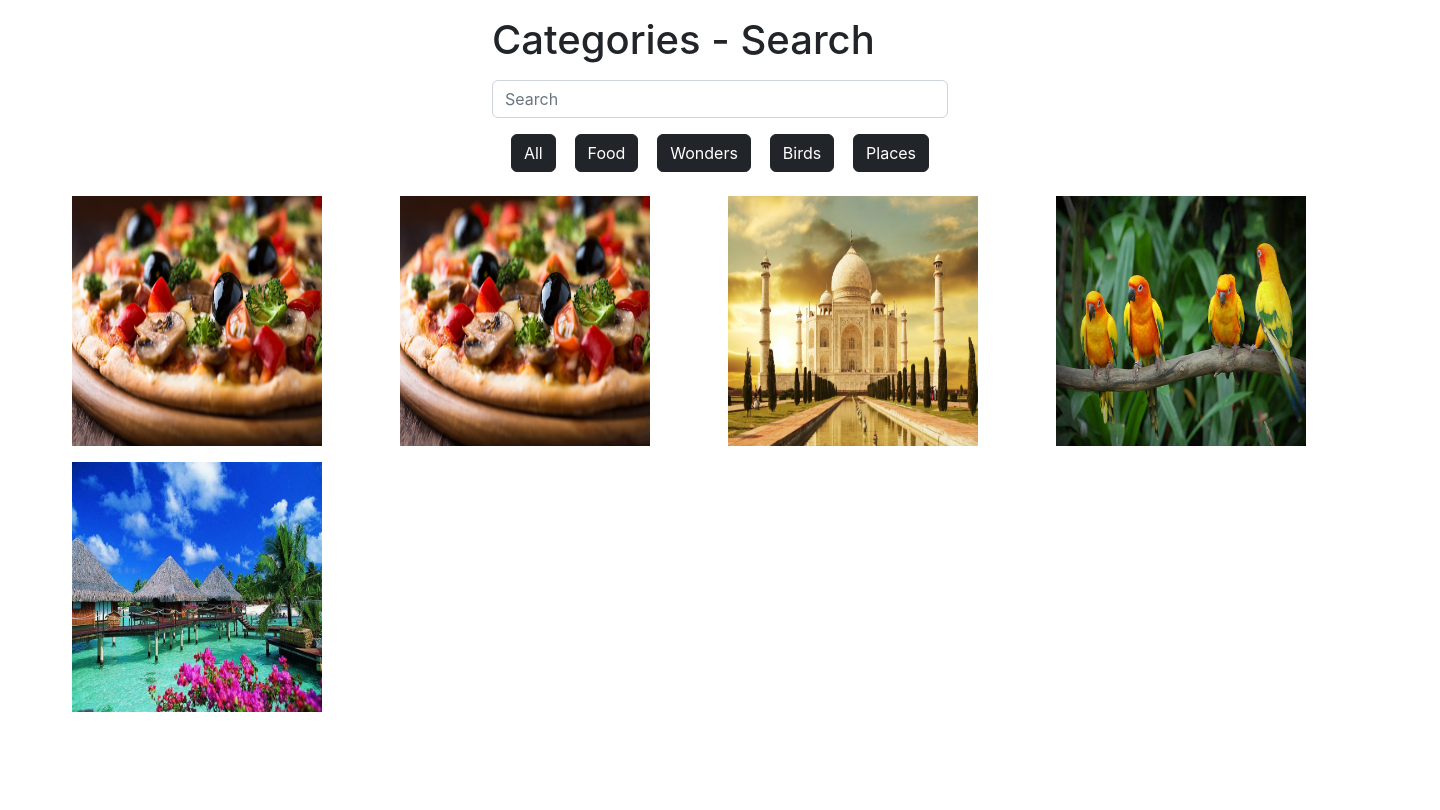
Test: Search-Box › should update the search results state and display the results in the UI when new results are returned
Type "food" into the search field with test id "search-input" at (720, 99), box [492,80,948,118]
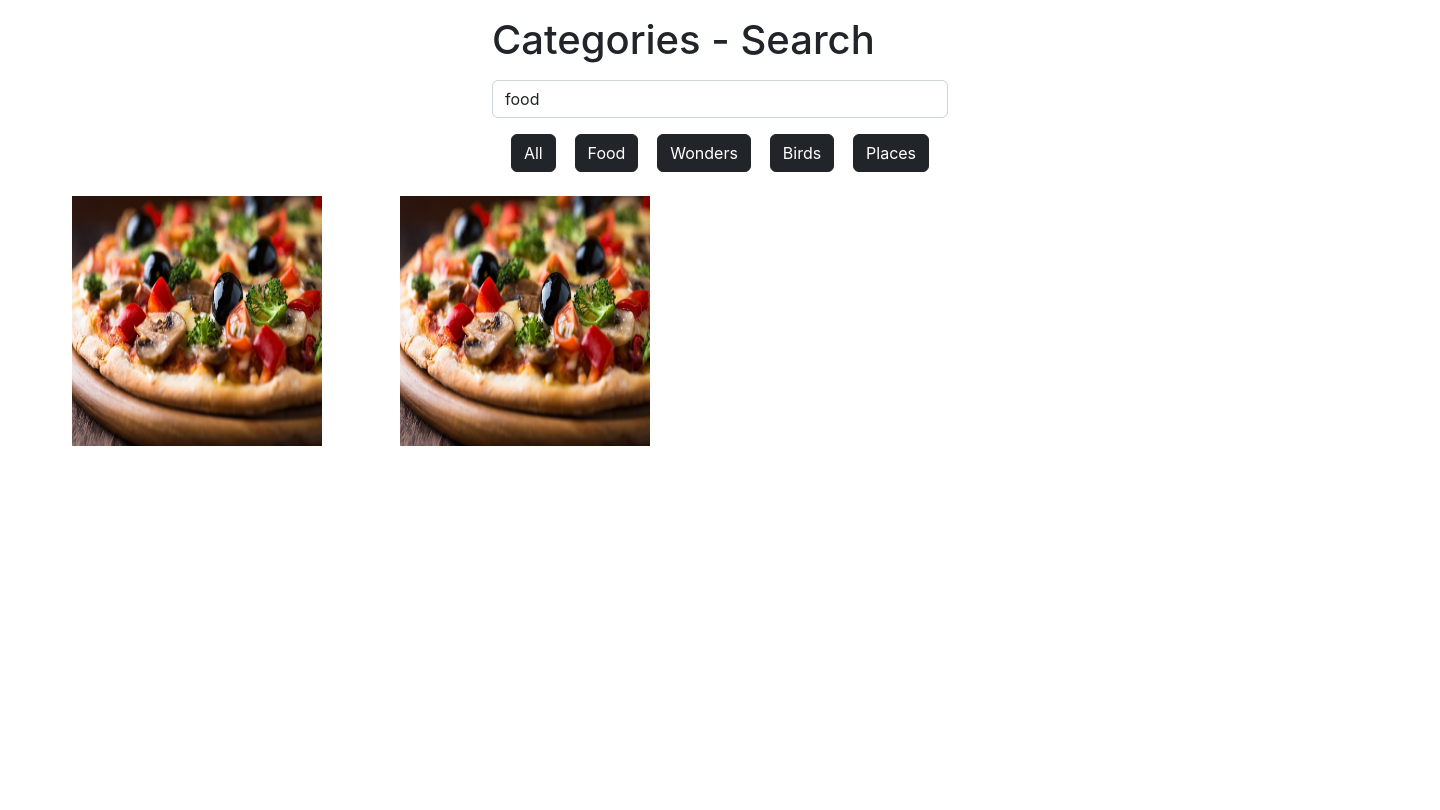
Now the number of elements with test id "search-result" is 2, box [72,196,322,446]; [400,196,650,446]
